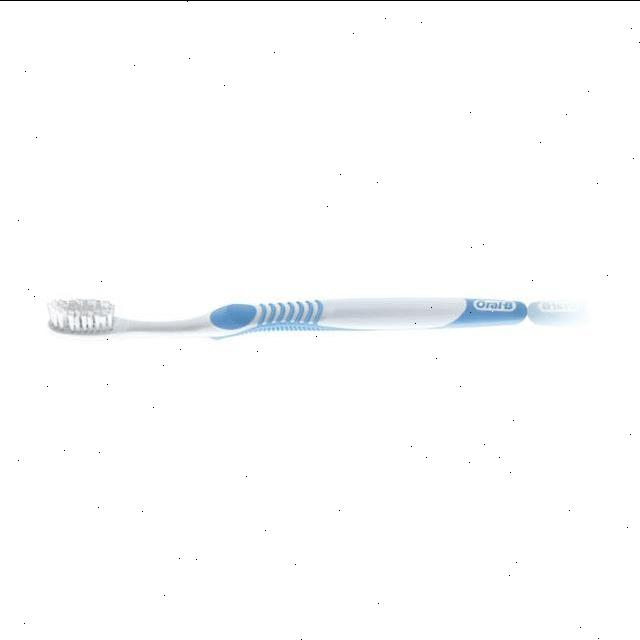toothbrush: (31, 253, 581, 374)
